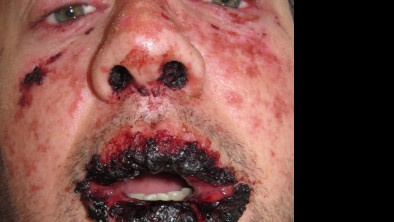SJS-TEN: (66, 115, 260, 221), (0, 25, 98, 131), (100, 46, 198, 111)
